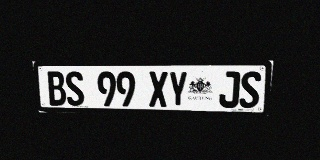9: (97, 71, 117, 106), (116, 71, 136, 106)
B: (46, 71, 67, 106)
J: (219, 71, 240, 108)
S: (239, 71, 262, 108), (64, 71, 85, 106)
X: (148, 71, 168, 107)
Y: (168, 71, 188, 107)
